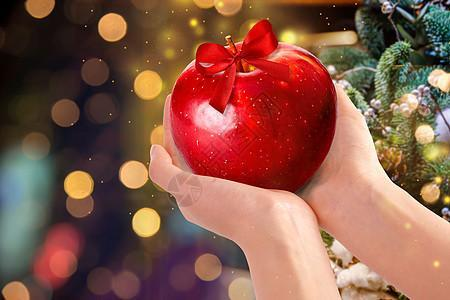apple: (168, 28, 338, 207)
